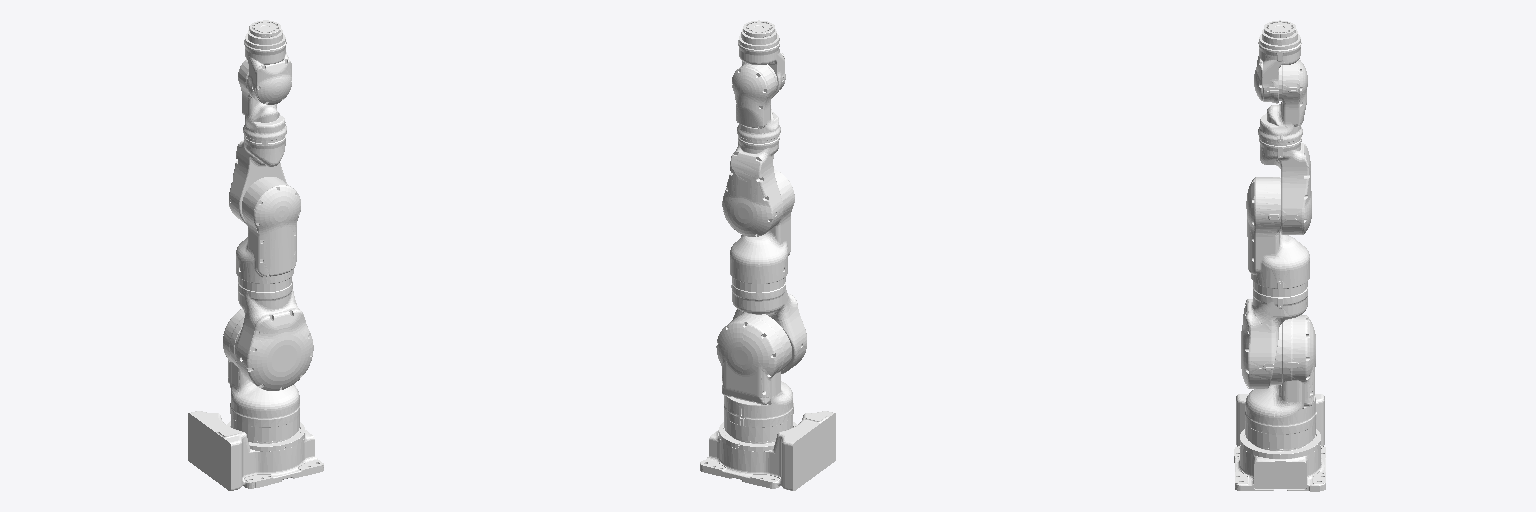
URDF robot description (sia20):
<?xml version="1.0" encoding="utf-8"?>
<!-- =================================================================================== -->
<!-- |    This document was autogenerated by xacro from sia20.urdf.xacro               | -->
<!-- |    EDITING THIS FILE BY HAND IS NOT RECOMMENDED                                 | -->
<!-- =================================================================================== -->
<robot name="sia20" xmlns:xacro="http://www.ros.org/wiki/xacro">
  <material name="white">
    <color rgba="1 1 1 1"/>
  </material>
  <!-- base_link-->
  <link name="base_link">
    <inertial>
      <mass value="1.0"/>
      <origin rpy="0 0 0" xyz="-0.05327 0.066798 0.00014271"/>
      <geometry>
        <mesh filename="package://sia20/meshes/base_link.STL"/>
      </geometry>
      <inertia ixx="0.001" ixy="0.001" ixz="0.001" iyy="0.001" iyz="0.001" izz="0.001"/>
    </inertial>
    <visual>
      <origin rpy="0 0 0" xyz="0 0 0"/>
      <geometry>
        <mesh filename="package://sia20/meshes/base_link.STL"/>
      </geometry>
      <material name="white"/>
    </visual>
    <collision>
      <origin rpy="0 0 0" xyz="0 0 0"/>
      <geometry>
        <mesh filename="package://sia20/meshes/base_link.STL"/>
      </geometry>
    </collision>
  </link>
  <!-- link_s-->
  <link name="link_s">
    <inertial>
      <mass value="1.0"/>
      <origin rpy="0 0 0" xyz="7.8023E-07 0.18911 -0.015611"/>
      <geometry>
        <mesh filename="package://sia20/meshes/link_s.STL"/>
      </geometry>
      <inertia ixx="0.001" ixy="0.001" ixz="0.001" iyy="0.001" iyz="0.001" izz="0.001"/>
    </inertial>
    <visual>
      <origin rpy="0 0 0" xyz="0 0 0"/>
      <geometry>
        <mesh filename="package://sia20/meshes/link_s.STL"/>
      </geometry>
      <material name="white"/>
    </visual>
    <collision>
      <origin rpy="0 0 0" xyz="0 0 0"/>
      <geometry>
        <mesh filename="package://sia20/meshes/link_s.STL"/>
      </geometry>
    </collision>
  </link>
  <!-- joint_s (base_link | joint_s) -->
  <joint name="joint_s" type="revolute">
    <origin rpy="1.5708 0 0" xyz="0 0 0.112"/>
    <parent link="base_link"/>
    <child link="link_s"/>
    <axis xyz="0 1 0"/>
    <limit effort="100" lower="-3.1415" upper="3.1415" velocity="2.2698"/>
    <!--
		<calibration rising="0" falling="0"/>
		<dynamics damping="0" fraction="0"/>
		<safety_controller soft_upper="0" soft_lower="0" k_position="0" k_velocity="0"/>
		-->
  </joint>
  <!-- link_l-->
  <link name="link_l">
    <inertial>
      <mass value="1.0"/>
      <origin rpy="0 0 0" xyz="1.6057E-05 0.10201 0.041335"/>
      <geometry>
        <mesh filename="package://sia20/meshes/link_l.STL"/>
      </geometry>
      <inertia ixx="0.001" ixy="0.001" ixz="0.001" iyy="0.001" iyz="0.001" izz="0.001"/>
    </inertial>
    <visual>
      <origin rpy="0 0 0" xyz="0 0 0"/>
      <geometry>
        <mesh filename="package://sia20/meshes/link_l.STL"/>
      </geometry>
      <material name="white"/>
    </visual>
    <collision>
      <origin rpy="0 0 0" xyz="0 0 0"/>
      <geometry>
        <mesh filename="package://sia20/meshes/link_l.STL"/>
      </geometry>
    </collision>
  </link>
  <!-- joint_l (link_s | joint_l) -->
  <joint name="joint_l" type="revolute">
    <origin rpy="0 0 0" xyz="0 0.298 0"/>
    <parent link="link_s"/>
    <child link="link_l"/>
    <axis xyz="0 0 1"/>
    <limit effort="100" lower="-1.9198" upper="1.9198" velocity="2.2698"/>
    <!--
		<calibration rising="0" falling="0"/>
		<dynamics damping="0" fraction="0"/>
		<safety_controller soft_upper="0" soft_lower="0" k_position="0" k_velocity="0"/>
		-->
  </joint>
  <!-- link_e-->
  <link name="link_e">
    <inertial>
      <mass value="1.0"/>
      <origin rpy="0 0 0" xyz="3.9186E-05 0.16471 0.020774"/>
      <geometry>
        <mesh filename="package://sia20/meshes/link_e.STL"/>
      </geometry>
      <inertia ixx="0.001" ixy="0.001" ixz="0.001" iyy="0.001" iyz="0.001" izz="0.001"/>
    </inertial>
    <visual>
      <origin rpy="0 0 0" xyz="0 0 0"/>
      <geometry>
        <mesh filename="package://sia20/meshes/link_e.STL"/>
      </geometry>
      <material name="white"/>
    </visual>
    <collision>
      <origin rpy="0 0 0" xyz="0 0 0"/>
      <geometry>
        <mesh filename="package://sia20/meshes/link_e.STL"/>
      </geometry>
    </collision>
  </link>
  <!-- joint_e (link_l | joint_e) -->
  <joint name="joint_e" type="revolute">
    <origin rpy="0 0 0" xyz="0 0.247135547651375 0"/>
    <parent link="link_l"/>
    <child link="link_e"/>
    <axis xyz="0 1 0"/>
    <limit effort="100" lower="-2.967" upper="2.967" velocity="2.2698"/>
    <!--
		<calibration rising="0" falling="0"/>
		<dynamics damping="0" fraction="0"/>
		<safety_controller soft_upper="0" soft_lower="0" k_position="0" k_velocity="0"/>
		-->
  </joint>
  <!-- link_u-->
  <link name="link_u">
    <inertial>
      <mass value="1.0"/>
      <origin rpy="0 0 0" xyz="-7.9992E-07 0.08472 -0.032542"/>
      <geometry>
        <mesh filename="package://sia20/meshes/link_u.STL"/>
      </geometry>
      <inertia ixx="0.001" ixy="0.001" ixz="0.001" iyy="0.001" iyz="0.001" izz="0.001"/>
    </inertial>
    <visual>
      <origin rpy="0 0 0" xyz="0 0 0"/>
      <geometry>
        <mesh filename="package://sia20/meshes/link_u.STL"/>
      </geometry>
      <material name="white"/>
    </visual>
    <collision>
      <origin rpy="0 0 0" xyz="0 0 0"/>
      <geometry>
        <mesh filename="package://sia20/meshes/link_u.STL"/>
      </geometry>
    </collision>
  </link>
  <!-- joint_u (link_e | joint_u) -->
  <joint name="joint_u" type="revolute">
    <origin rpy="0 0 0" xyz="0 0.242864452348634 0"/>
    <parent link="link_e"/>
    <child link="link_u"/>
    <axis xyz="0 0 1"/>
    <limit effort="100" lower="-2.967" upper="2.967" velocity="2.2698"/>
    <!--
		<calibration rising="0" falling="0"/>
		<dynamics damping="0" fraction="0"/>
		<safety_controller soft_upper="0" soft_lower="0" k_position="0" k_velocity="0"/>
		-->
  </joint>
  <!-- link_r-->
  <link name="link_r">
    <inertial>
      <mass value="1.0"/>
      <origin rpy="0 0 0" xyz="4.8678E-06 0.12569 -0.02028"/>
      <geometry>
        <mesh filename="package://sia20/meshes/link_r.STL"/>
      </geometry>
      <inertia ixx="0.001" ixy="0.001" ixz="0.001" iyy="0.001" iyz="0.001" izz="0.001"/>
    </inertial>
    <visual>
      <origin rpy="0 0 0" xyz="0 0 0"/>
      <geometry>
        <mesh filename="package://sia20/meshes/link_r.STL"/>
      </geometry>
      <material name="white"/>
    </visual>
    <collision>
      <origin rpy="0 0 0" xyz="0 0 0"/>
      <geometry>
        <mesh filename="package://sia20/meshes/link_r.STL"/>
      </geometry>
    </collision>
  </link>
  <!-- joint_r (link_u | joint_r) -->
  <joint name="joint_r" type="revolute">
    <origin rpy="0 0 0" xyz="0 0.23899999999989 0"/>
    <parent link="link_u"/>
    <child link="link_r"/>
    <axis xyz="0 1 0"/>
    <limit effort="100" lower="-3.1415" upper="3.1415" velocity="3.4906"/>
    <!--
		<calibration rising="0" falling="0"/>
		<dynamics damping="0" fraction="0"/>
		<safety_controller soft_upper="0" soft_lower="0" k_position="0" k_velocity="0"/>
		-->
  </joint>
  <!-- link_b-->
  <link name="link_b">
    <inertial>
      <mass value="1.0"/>
      <origin rpy="0 0 0" xyz="5.1667E-06 0.069849 0.019496"/>
      <geometry>
        <mesh filename="package://sia20/meshes/link_b.STL"/>
      </geometry>
      <inertia ixx="0.001" ixy="0.001" ixz="0.001" iyy="0.001" iyz="0.001" izz="0.001"/>
    </inertial>
    <visual>
      <origin rpy="0 0 0" xyz="0 0 0"/>
      <geometry>
        <mesh filename="package://sia20/meshes/link_b.STL"/>
      </geometry>
      <material name="white"/>
    </visual>
    <collision>
      <origin rpy="0 0 0" xyz="0 0 0"/>
      <geometry>
        <mesh filename="package://sia20/meshes/link_b.STL"/>
      </geometry>
    </collision>
  </link>
  <!-- joint_b (link_r | joint_b) -->
  <joint name="joint_b" type="revolute">
    <origin rpy="0 0 0" xyz="0 0.181 0"/>
    <parent link="link_r"/>
    <child link="link_b"/>
    <axis xyz="0 0 1"/>
    <limit effort="100" lower="-1.9198" upper="1.9198" velocity="3.4906"/>
    <!--
		<calibration rising="0" falling="0"/>
		<dynamics damping="0" fraction="0"/>
		<safety_controller soft_upper="0" soft_lower="0" k_position="0" k_velocity="0"/>
		-->
  </joint>
  <!-- link_t-->
  <link name="link_t">
    <inertial>
      <mass value="1.0"/>
      <origin rpy="0 0 0" xyz="-0.00019051 0.0087466 -2.475E-05"/>
      <geometry>
        <mesh filename="package://sia20/meshes/link_t.STL"/>
      </geometry>
      <inertia ixx="0.001" ixy="0.001" ixz="0.001" iyy="0.001" iyz="0.001" izz="0.001"/>
    </inertial>
    <visual>
      <origin rpy="0 0 0" xyz="0 0 0"/>
      <geometry>
        <mesh filename="package://sia20/meshes/link_t.STL"/>
      </geometry>
      <material name="white"/>
    </visual>
    <collision>
      <origin rpy="0 0 0" xyz="0 0 0"/>
      <geometry>
        <mesh filename="package://sia20/meshes/link_t.STL"/>
      </geometry>
    </collision>
  </link>
  <!-- joint_t (link_b | joint_t) -->
  <joint name="joint_t" type="revolute">
    <origin rpy="0 0 0" xyz="0 0.164069662461231 0.0015"/>
    <parent link="link_b"/>
    <child link="link_t"/>
    <axis xyz="0 1 0"/>
    <limit effort="100" lower="-3.1415" upper="3.1415" velocity="7.0"/>
    <!--
		<calibration rising="0" falling="0"/>
		<dynamics damping="0" fraction="0"/>
		<safety_controller soft_upper="0" soft_lower="0" k_position="0" k_velocity="0"/>
		-->
  </joint>
  <!-- link tool0-->
  <link name="tool0"/>
  <!-- joint link_t-tool0 -->
  <joint name="link_t-tool0" type="fixed">
    <origin rpy="0 0 -3.1415" xyz="0 0 0"/>
    <parent link="link_t"/>
    <child link="tool0"/>
  </joint>
  <!-- link fixed in order to stand rigidly in gazebo -->
  <link name="world"/>
  <joint name="fixed" type="fixed">
    <parent link="world"/>
    <child link="base_link"/>
  </joint>
  <!-- ros_control_plugin-->
  <gazebo>
    <plugin filename="libgazebo_ros_control.so" name="gazebo_ros_control">
      <robotNameSpace>/</robotNameSpace>
    </plugin>
  </gazebo>
</robot>

--- What the picture shows (computed from the rendered views, not written in the file) ---
Views: 3 orthographic renders of the robot side by side, from view 1: azimuth 30°, elevation 25°; view 2: azimuth 150°, elevation 25°; view 3: azimuth 270°, elevation 25°.
Robot: sia20 — 10 links, 9 joints (7 revolute, 2 fixed); root link world; default pose: every joint at zero.
Visible links, largest first — view 1: link_l, base_link, link_e, link_s, link_b, link_u, link_r; view 2: link_s, base_link, link_u, link_e, link_r, link_l, link_b; view 3: link_s, base_link, link_e, link_l, link_u, link_r, link_b.
Link boxes in pixels (x1=…): link_l: x1=236, y1=277, x2=313, y2=390; base_link: x1=188, y1=411, x2=323, y2=490; link_e: x1=236, y1=177, x2=300, y2=283; link_s: x1=223, y1=308, x2=299, y2=441; link_b: x1=244, y1=29, x2=291, y2=104; link_u: x1=229, y1=135, x2=286, y2=224; link_r: x1=238, y1=59, x2=286, y2=140; link_s: x1=716, y1=313, x2=793, y2=441; base_link: x1=700, y1=411, x2=835, y2=490; link_u: x1=722, y1=135, x2=782, y2=236; link_e: x1=730, y1=169, x2=794, y2=283; link_r: x1=732, y1=63, x2=780, y2=140; link_l: x1=731, y1=277, x2=806, y2=373; link_b: x1=738, y1=29, x2=785, y2=97; link_s: x1=1245, y1=315, x2=1316, y2=448; base_link: x1=1234, y1=394, x2=1325, y2=491; link_e: x1=1246, y1=177, x2=1309, y2=288; link_l: x1=1241, y1=281, x2=1307, y2=388; link_u: x1=1259, y1=137, x2=1311, y2=234; link_r: x1=1258, y1=60, x2=1307, y2=142; link_b: x1=1254, y1=29, x2=1301, y2=103.
Size in the robot's own frame: 0.343 by 0.283 by 1.5 metres.
Meshes: 8 distinct files referenced, 8 mesh visuals loaded (8 binary STL).